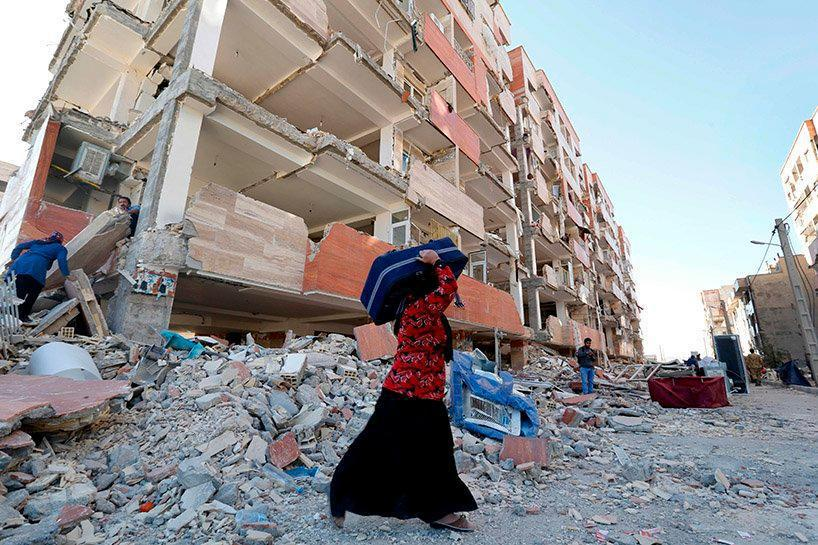destroyed: (30, 0, 635, 336)
